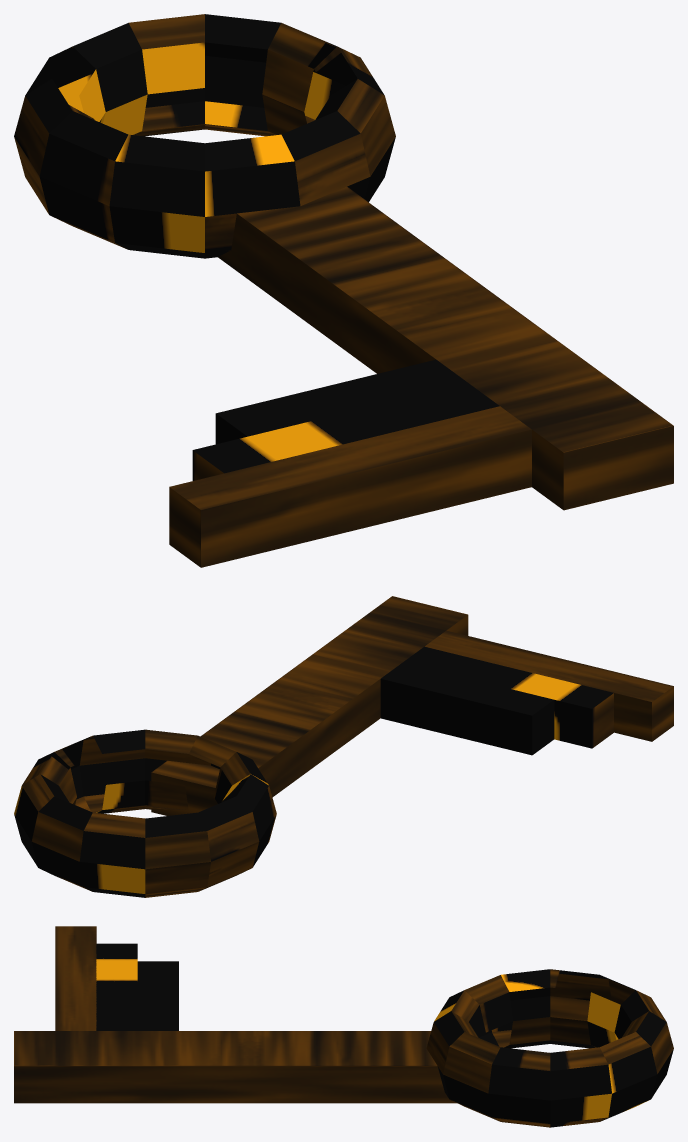
The model's file is Key.obj.
3 renders of one model, top to bottom at view 1: azimuth 30°, elevation 25°; view 2: azimuth 150°, elevation 25°; view 3: azimuth 270°, elevation 25°, orthographic. The views are drawn at different scales.
Parts seen in each view (by area): view 1: Key; view 2: Key; view 3: Key.
Boxes of the visible parts, x1,y1,x2,y2 form: Key: (14,14,673,567); Key: (14,596,673,897); Key: (14,926,673,1127).
Bounding box in the file's own units: 0.625 × 0.125 × 1.
